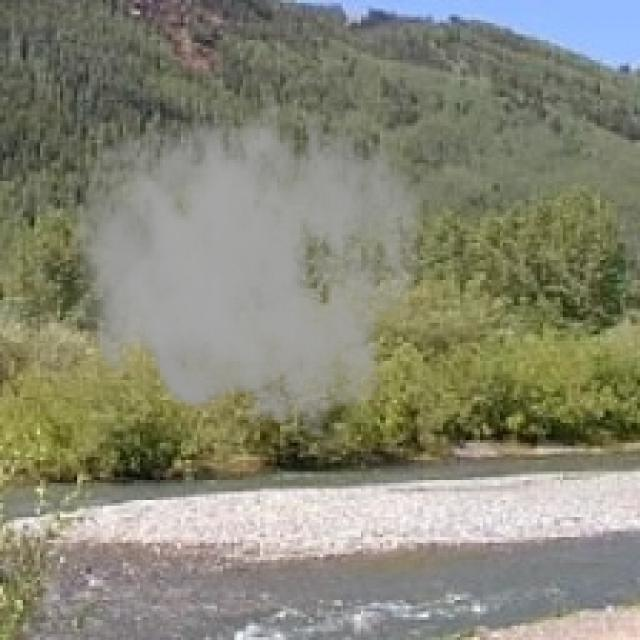Smoke: (68, 71, 426, 440)
